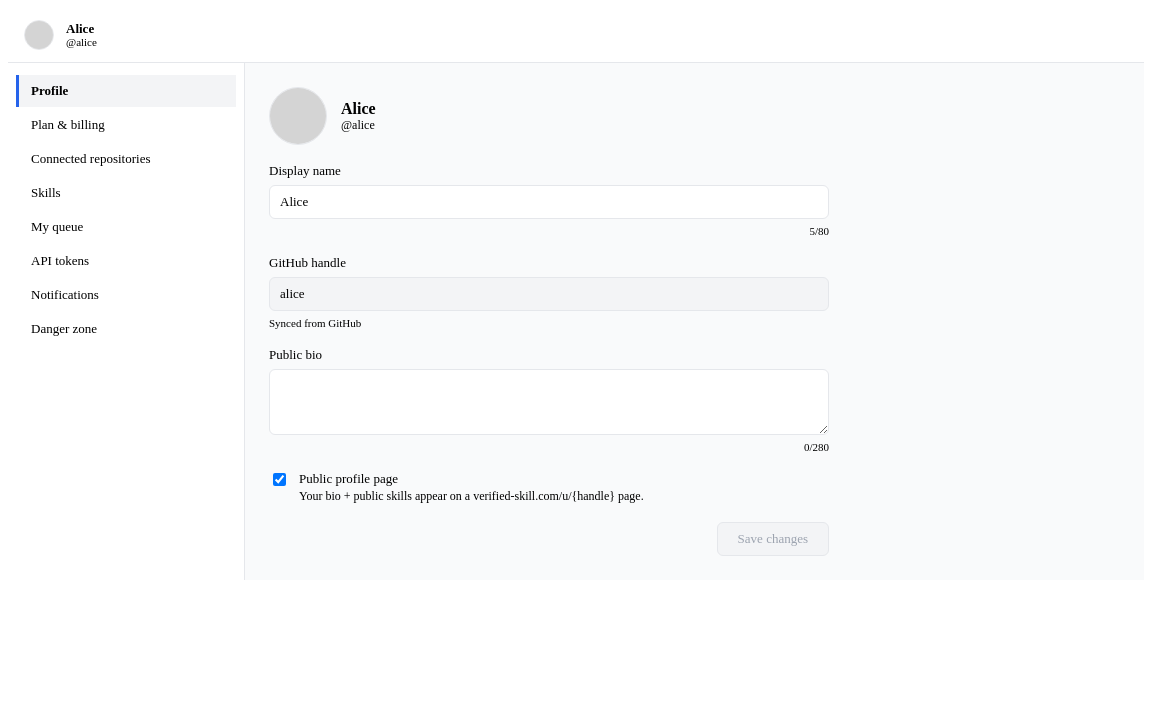
Test: AccountShell — My queue tab › mounts SubmissionQueuePanel when the queue tab is selected
Click the button with test id "account-tab-queue" at (126, 227), box 16,211 -> 236,243
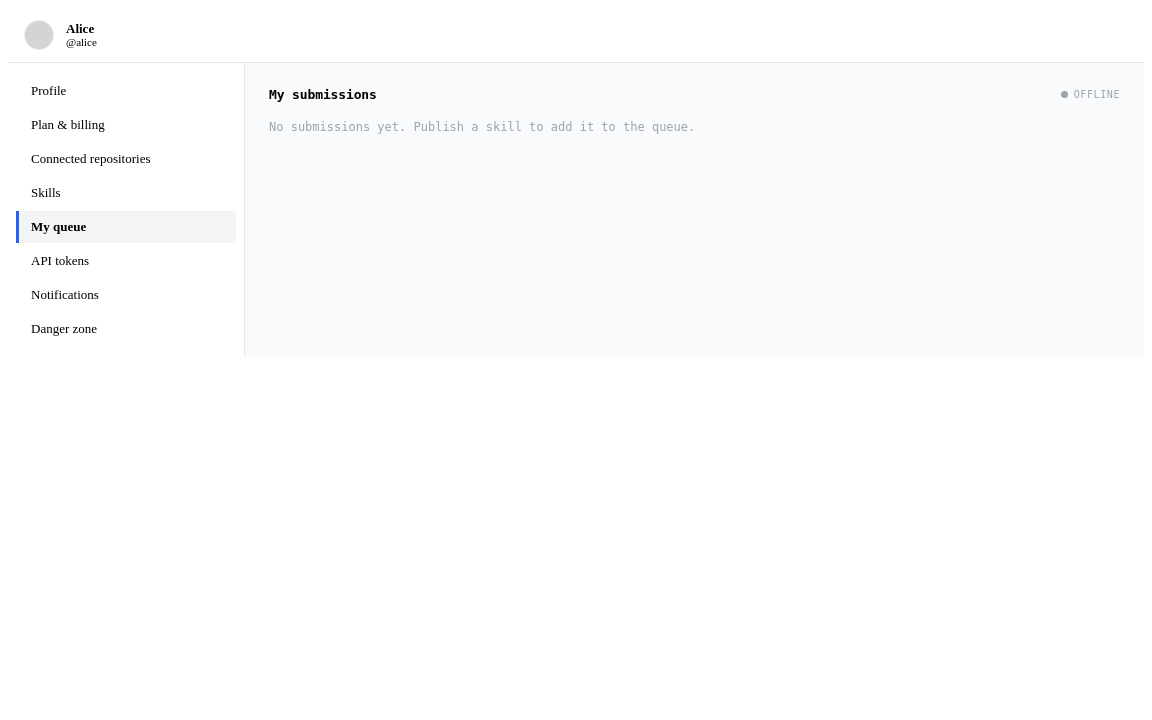
Expected: the element with test id "submission-queue-panel" is shown, 269,87 -> 1120,142
